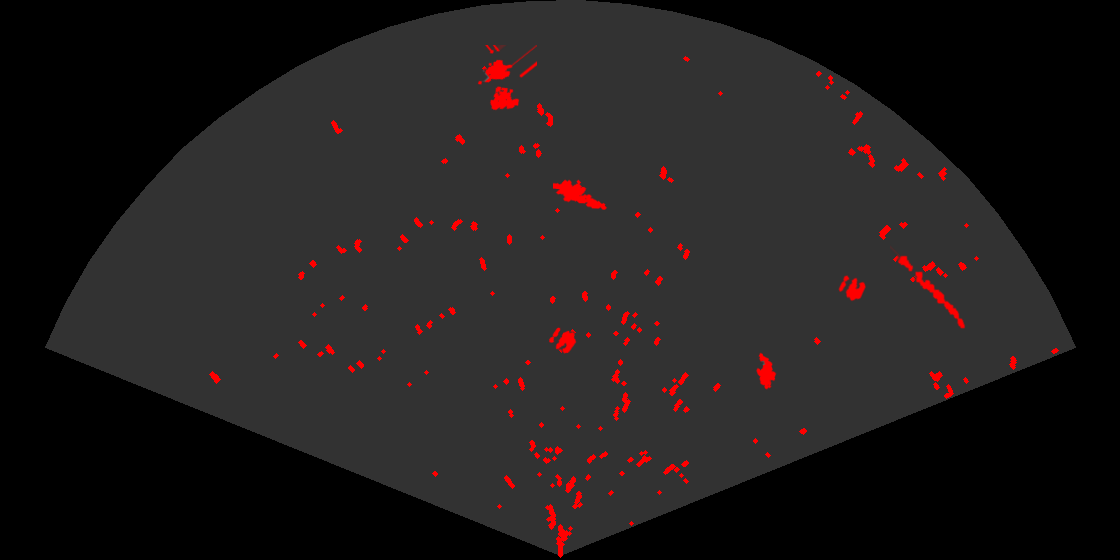AUV: (755, 351, 778, 391)
ball: (547, 326, 578, 355), (837, 274, 868, 303)
cage: (476, 45, 537, 112)
chain: (890, 244, 967, 330)
frogman: (553, 178, 608, 211)
